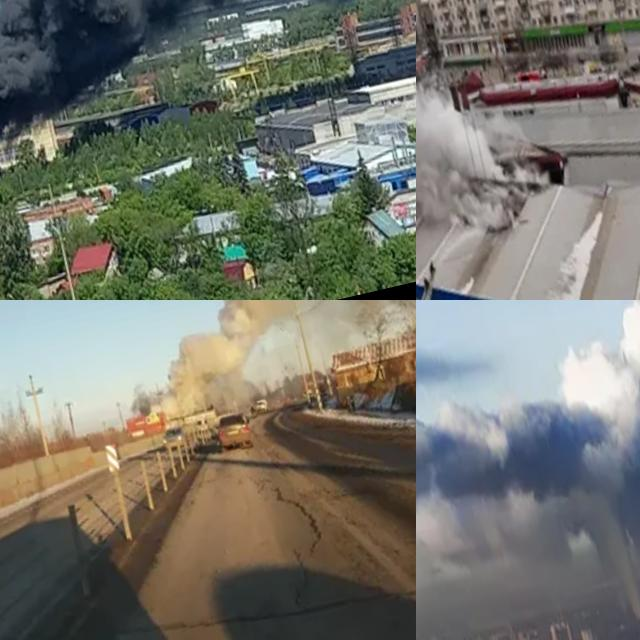smoke: (0, 0, 416, 202), (416, 300, 640, 640), (416, 0, 556, 300), (133, 300, 349, 422), (313, 300, 416, 352)
